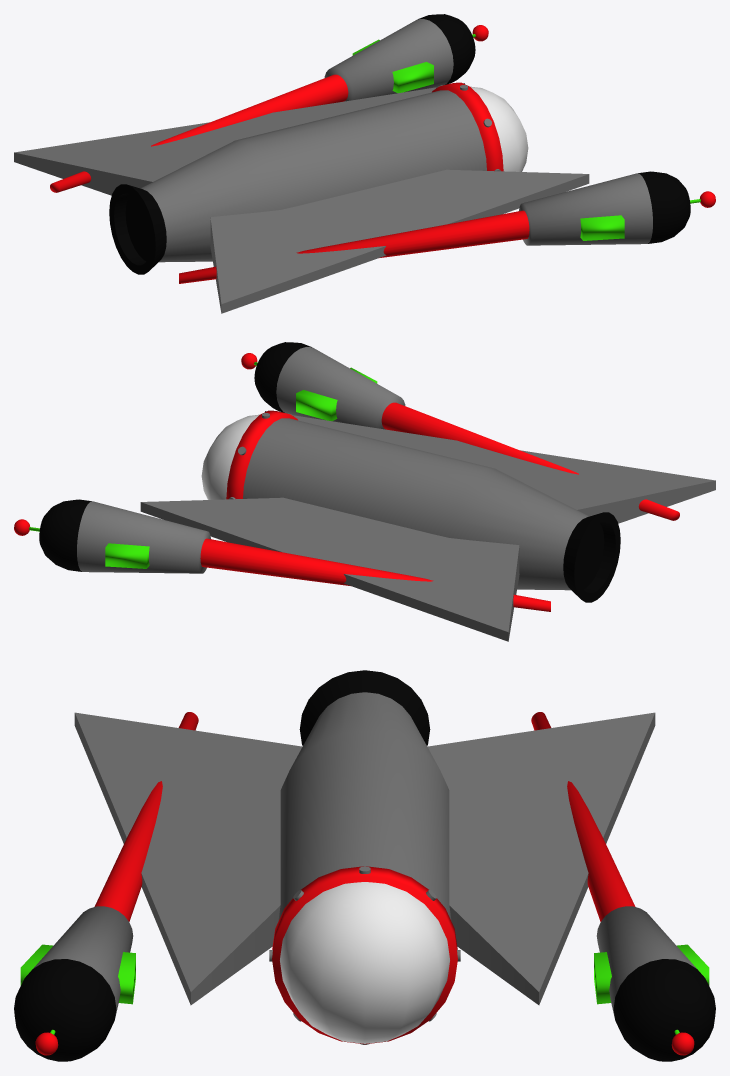
Rendered from Spaceship_weird.fbx.
3 renders of one model, top to bottom at view 1: azimuth 30°, elevation 25°; view 2: azimuth 150°, elevation 25°; view 3: azimuth 270°, elevation 25°, orthographic. The views are drawn at different scales.
Visible parts, largest first — view 1: Wings, Metalic part, Cannon, Red part, Green part, Glass sphere; view 2: Wings, Metalic part, Cannon, Red part, Green part, Glass sphere; view 3: Wings, Metalic part, Cannon, Glass sphere, Red part, Green part, The red ball on cannon.
Boxes of the visible parts, left/top/right/bottom form: Wings: left=14, top=83, right=589, bottom=313; Metalic part: left=109, top=85, right=500, bottom=274; Cannon: left=324, top=14, right=690, bottom=245; Red part: left=50, top=74, right=529, bottom=283; Green part: left=352, top=34, right=700, bottom=240; Glass sphere: left=470, top=86, right=528, bottom=171; Wings: left=140, top=411, right=715, bottom=641; Metalic part: left=229, top=413, right=620, bottom=602; Cannon: left=39, top=342, right=405, bottom=573; Red part: left=200, top=402, right=679, bottom=611; Green part: left=29, top=362, right=377, bottom=568; Glass sphere: left=201, top=414, right=259, bottom=499; Wings: left=74, top=712, right=655, bottom=1005; Metalic part: left=269, top=670, right=460, bottom=1044; Cannon: left=14, top=906, right=715, bottom=1061; Glass sphere: left=280, top=882, right=449, bottom=1043; Red part: left=94, top=712, right=635, bottom=1044; Green part: left=20, top=944, right=709, bottom=1034; The red ball on cannon: left=35, top=1032, right=694, bottom=1055.
Size of the model in its own units: 678 by 165 by 605.
